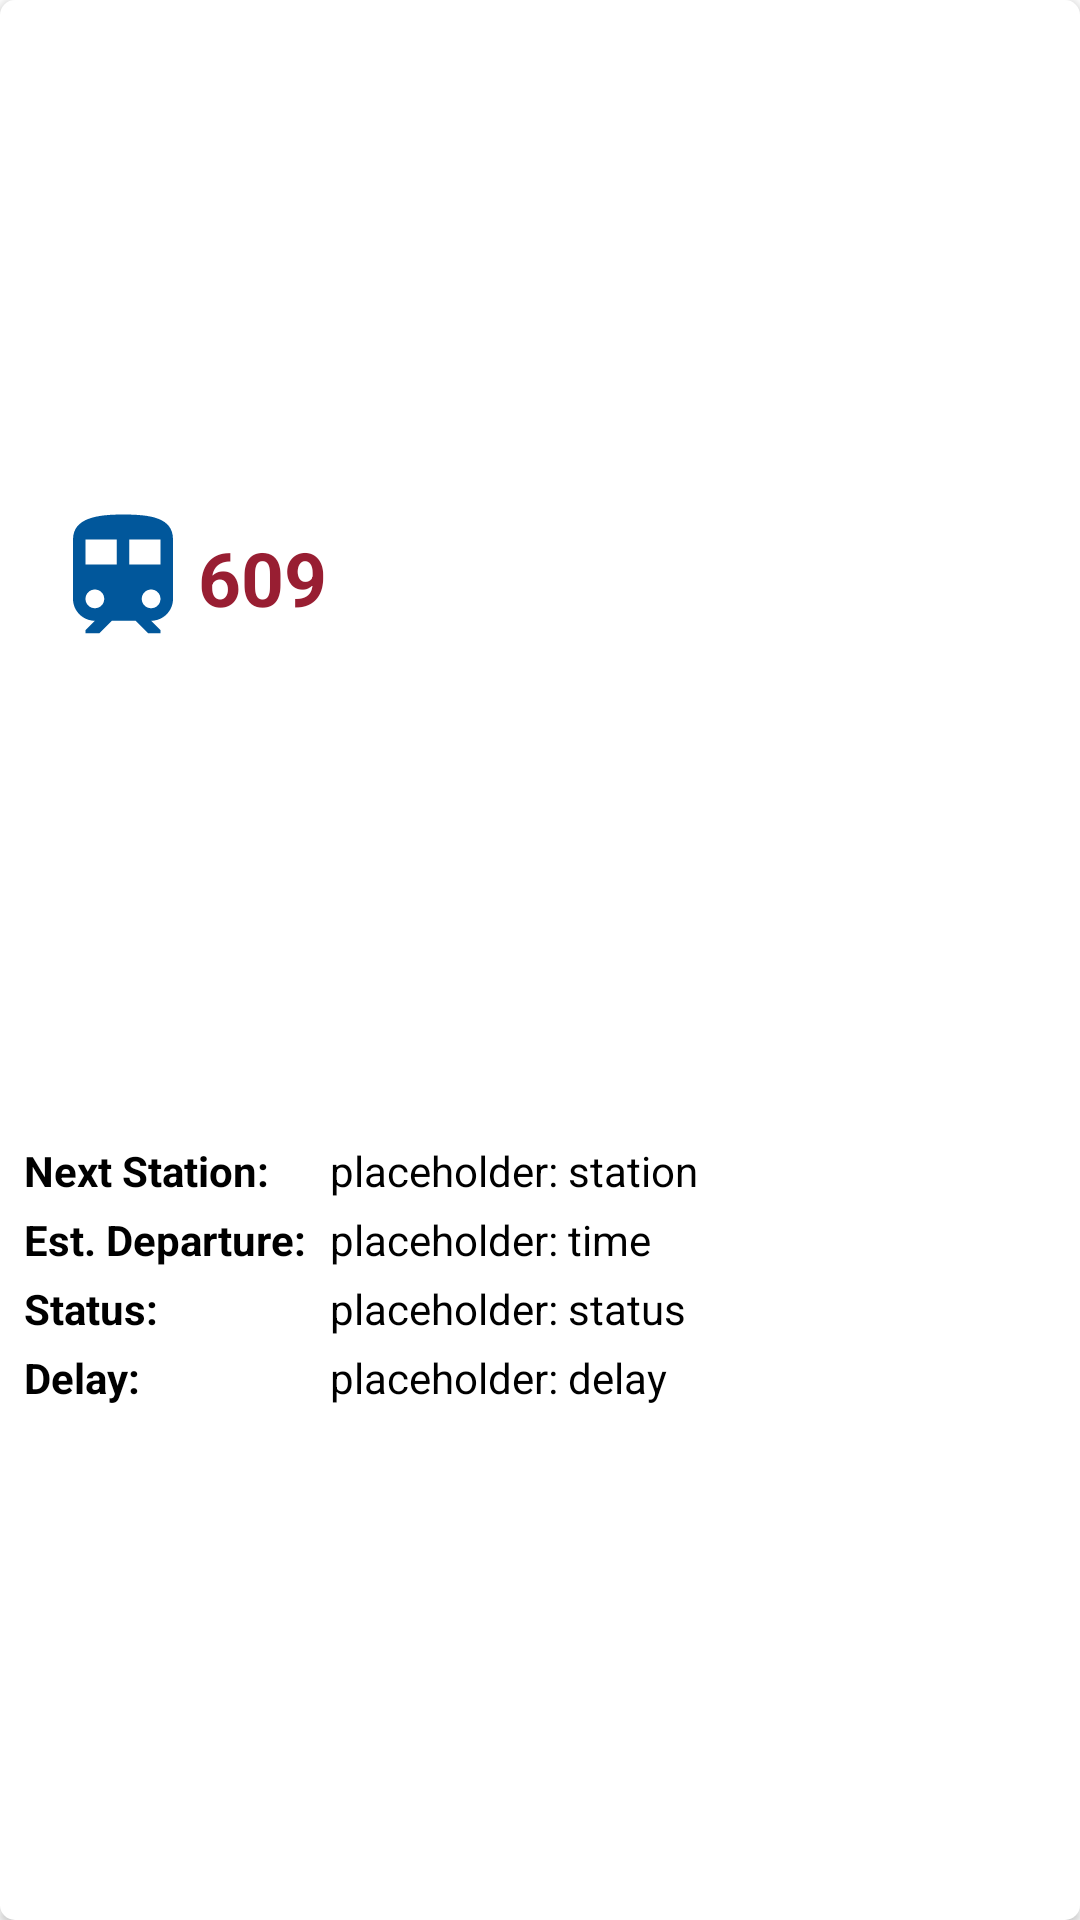

Screen size 1080x1920. Icon name, then its center in pixels as point (x, y):
Train Number: point (123, 574)
